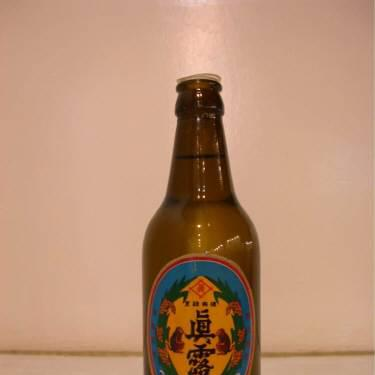soju: (140, 72, 267, 375)
